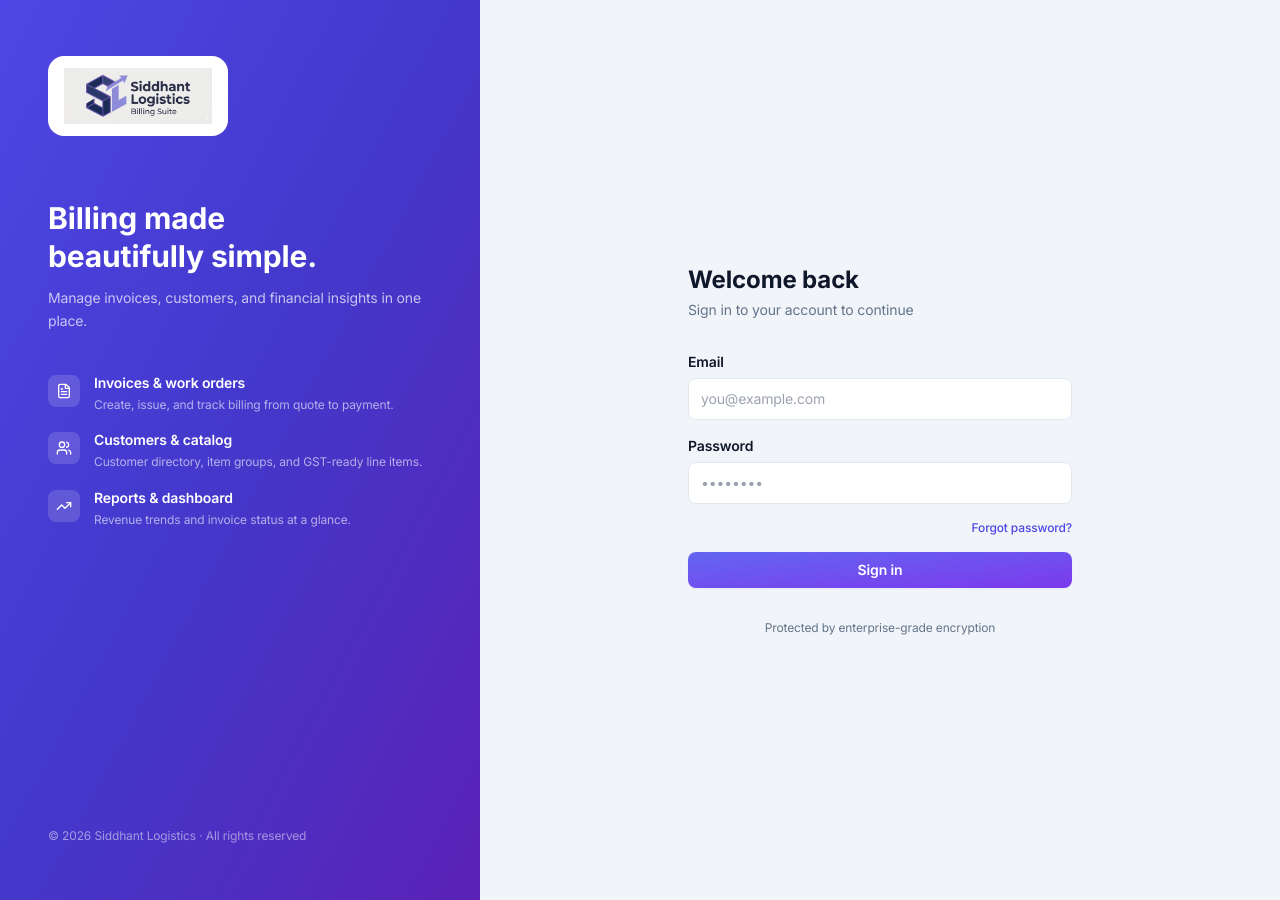
Test: LoginPage › shows validation error for invalid email format
Step 1. Type "not-an-email" into the field labelled "Email" → (880, 399), box [688,378,1072,420]
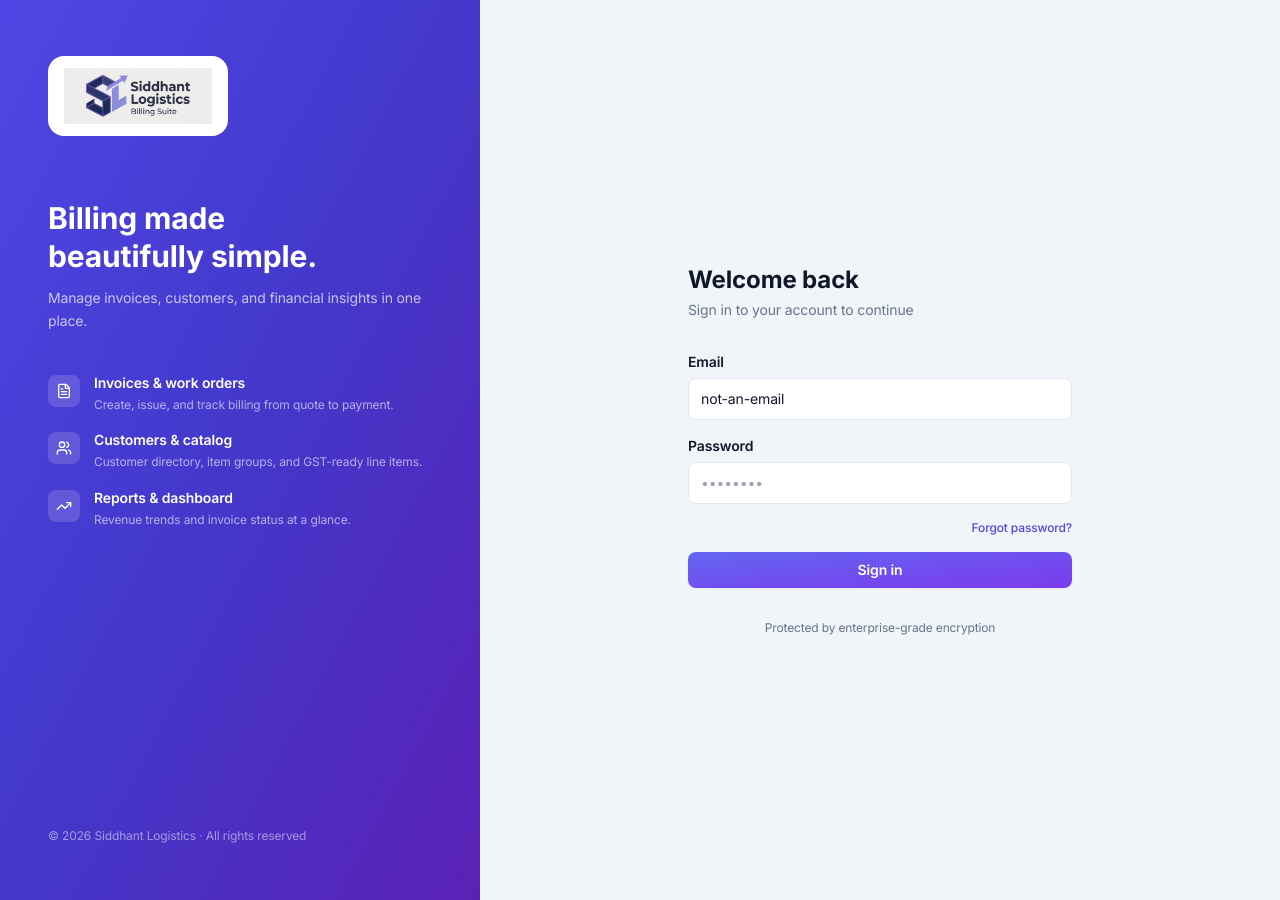
Step 2. Click the button "Sign in" → (880, 570), box [688,552,1072,588]
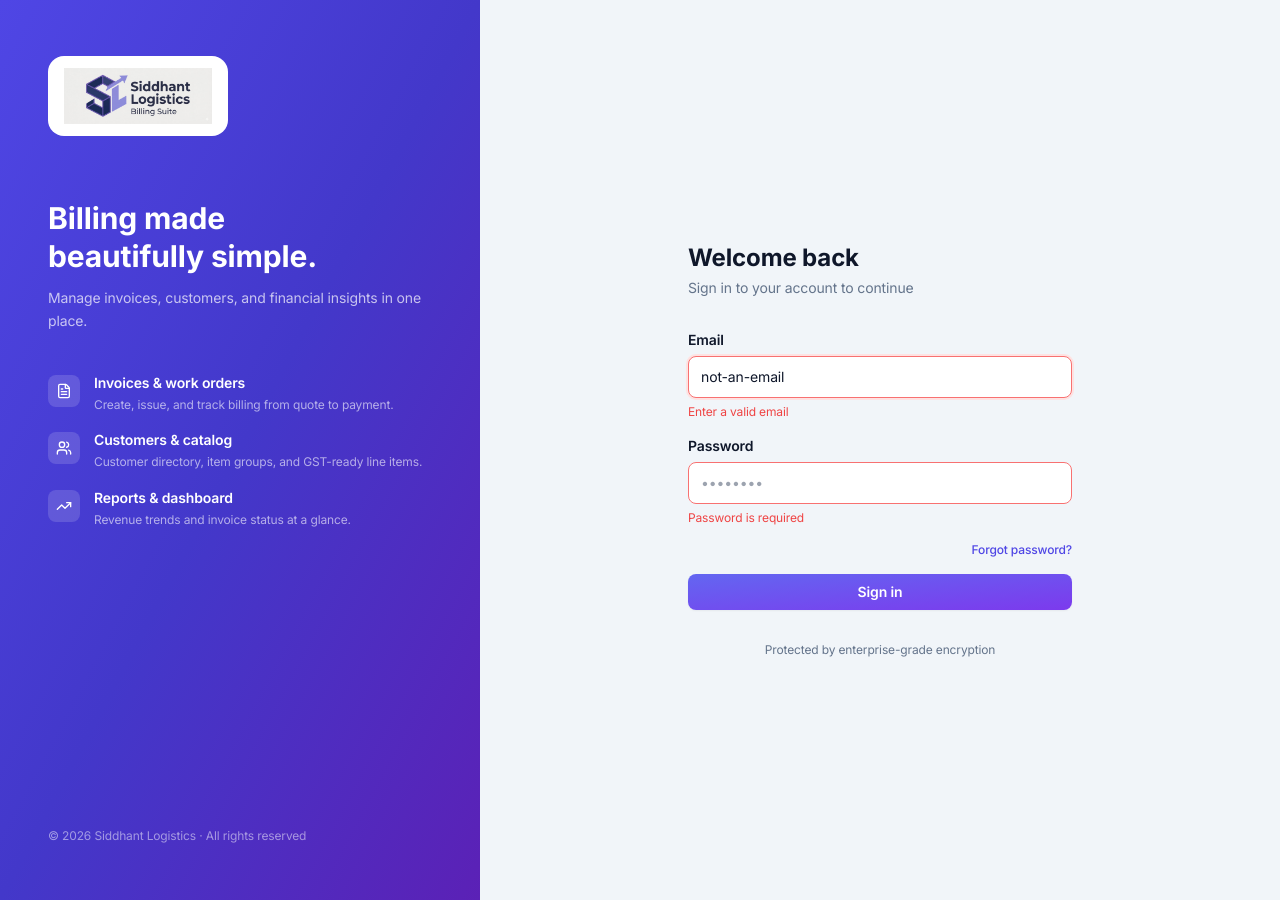
Expected: the text "Enter a valid email" is shown, [688,404,788,419]
